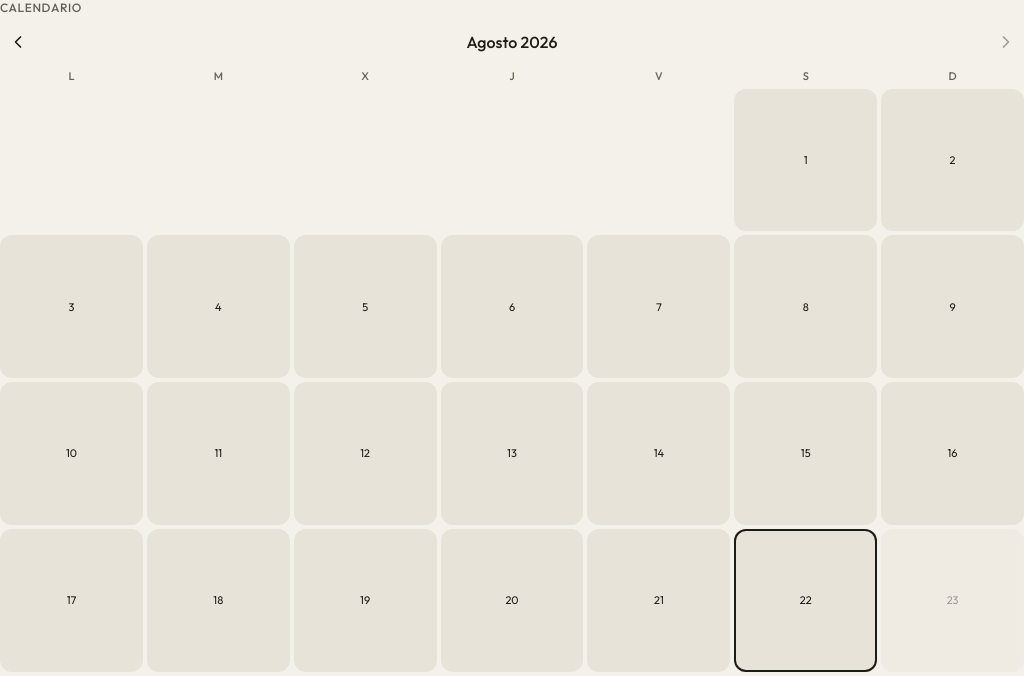
it: MonthCal › navigates to the previous month and blocks next on the current month
Expected: the button named "Mes siguiente" is disabled, [988,24,1023,60]
Step 1. Click the button named "Mes anterior" → point(18, 42), box [0,24,36,60]
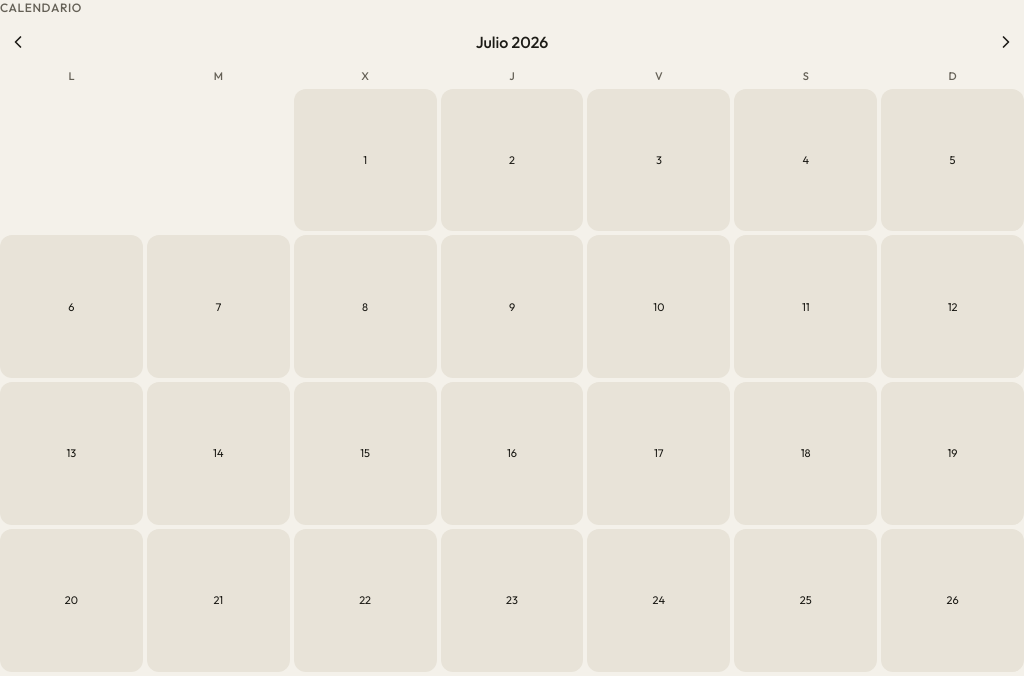
Expected: the button named "Mes siguiente" is enabled, [988,24,1023,60]
Expected: the text with test id "month-label" reads "Julio 2026", [476,32,548,52]
